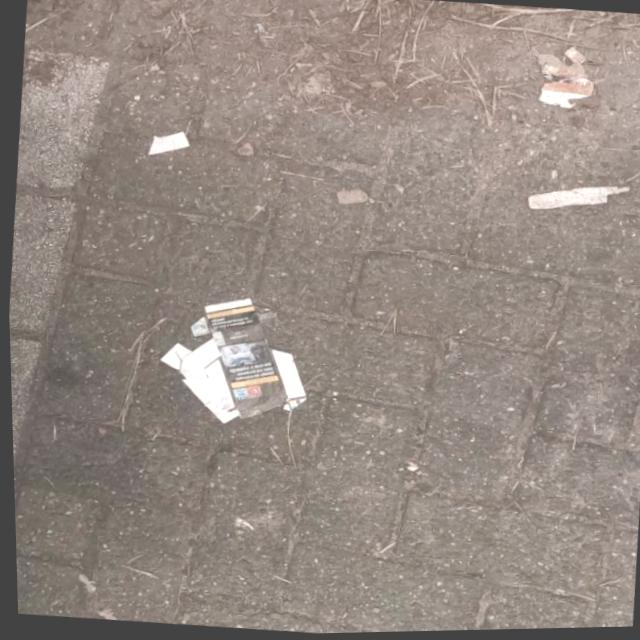Paper: (146, 288, 319, 436), (522, 177, 631, 220)
Plastic: (521, 44, 598, 113)
